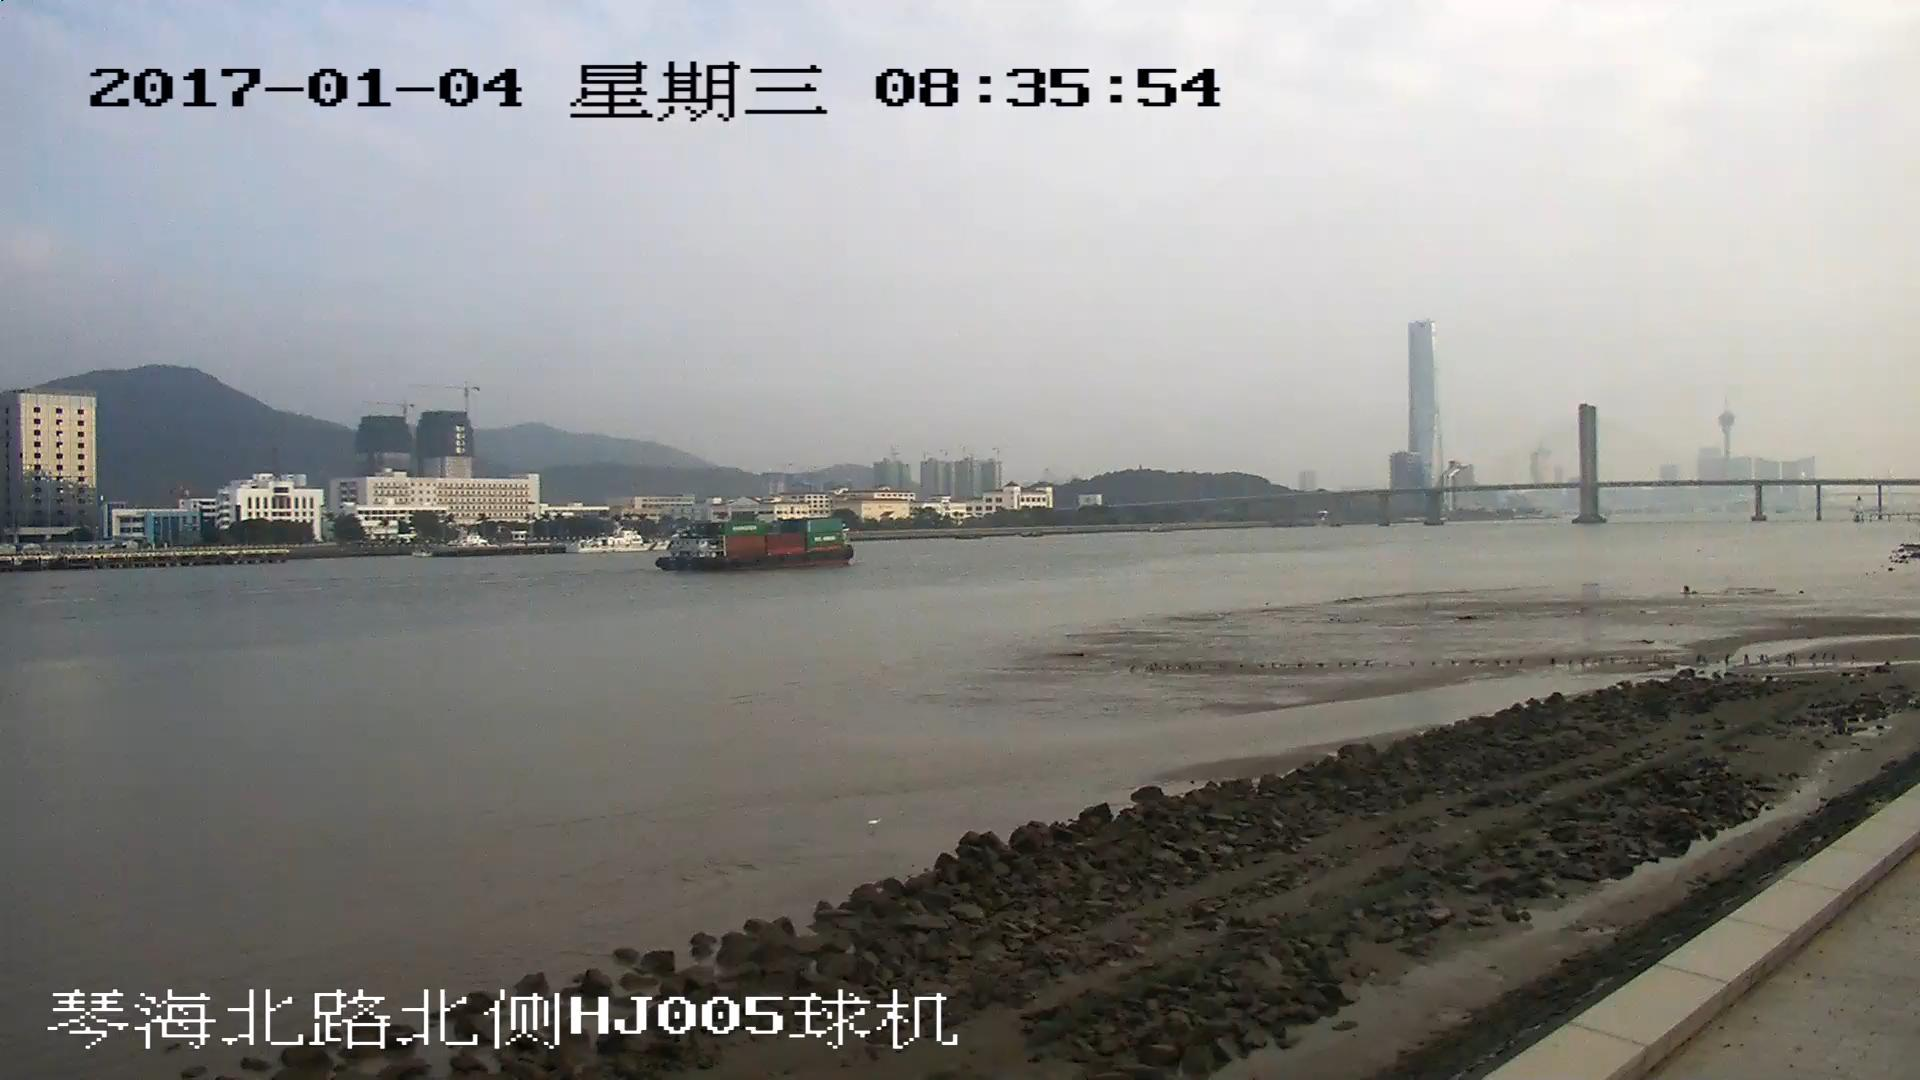Ship: (659, 522, 858, 574)
